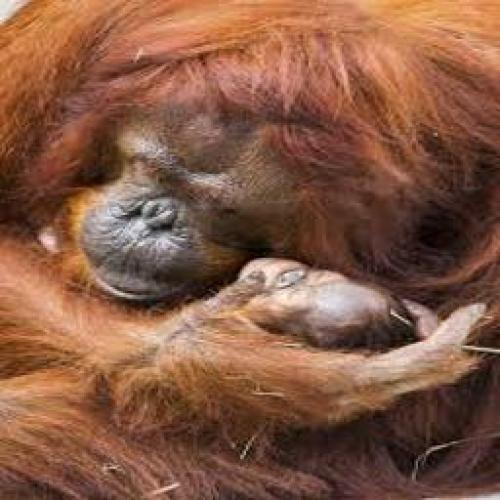orangutan-endangered: (8, 9, 480, 492), (205, 240, 459, 445)
